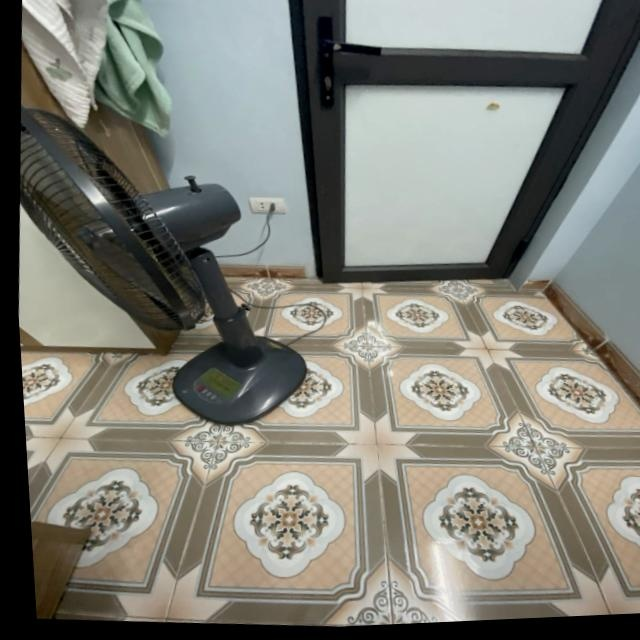outlet: (247, 194, 287, 215)
